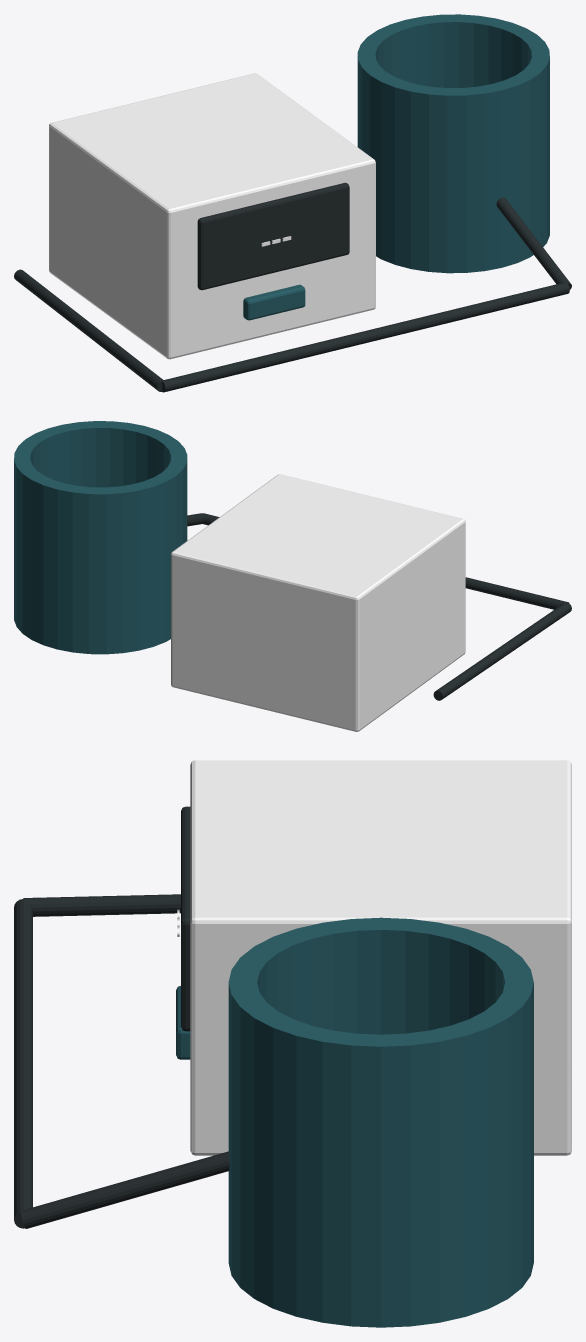
Rendered from source-edit.glb.
The picture shows the model from 3 angles, top to bottom: view 1: azimuth 30°, elevation 25°; view 2: azimuth 150°, elevation 25°; view 3: azimuth 270°, elevation 25°; orthographic projection. The views are drawn at different scales.
Visible parts, largest first — view 1: Monitor_Housing, Fabric_Cuff, Display, Air_Tube.003, Air_Tube.002, Start_Button, Air_Tube; view 2: Monitor_Housing, Fabric_Cuff, Air_Tube.002, Air_Tube.003; view 3: Fabric_Cuff, Monitor_Housing, Air_Tube.003, Air_Tube, Air_Tube.002, Display.
Boxes of the visible parts, bbox=[...] form: Monitor_Housing: bbox=[49, 73, 375, 359]; Fabric_Cuff: bbox=[357, 14, 549, 273]; Display: bbox=[197, 182, 349, 290]; Air_Tube.003: bbox=[162, 283, 569, 392]; Air_Tube.002: bbox=[14, 269, 163, 391]; Start_Button: bbox=[243, 284, 305, 320]; Air_Tube: bbox=[496, 197, 571, 289]; Monitor_Housing: bbox=[171, 474, 465, 731]; Fabric_Cuff: bbox=[14, 421, 187, 654]; Air_Tube.002: bbox=[433, 602, 571, 700]; Air_Tube.003: bbox=[203, 513, 569, 609]; Fabric_Cuff: bbox=[228, 917, 533, 1327]; Monitor_Housing: bbox=[190, 760, 571, 1155]; Air_Tube.003: bbox=[14, 899, 32, 1228]; Air_Tube: bbox=[20, 1151, 229, 1228]; Air_Tube.002: bbox=[23, 894, 180, 916]; Display: bbox=[181, 806, 190, 1031].
Size of the model in its own units: 0.378 by 0.13 by 0.234.
